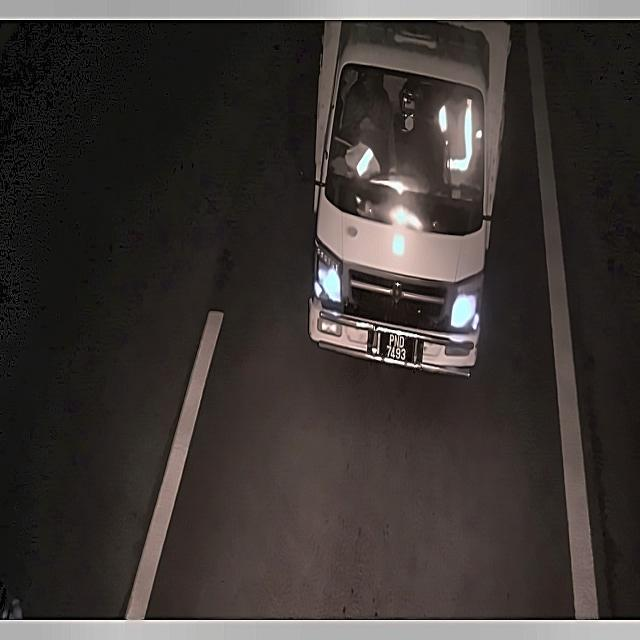car: (375, 327, 418, 368)
